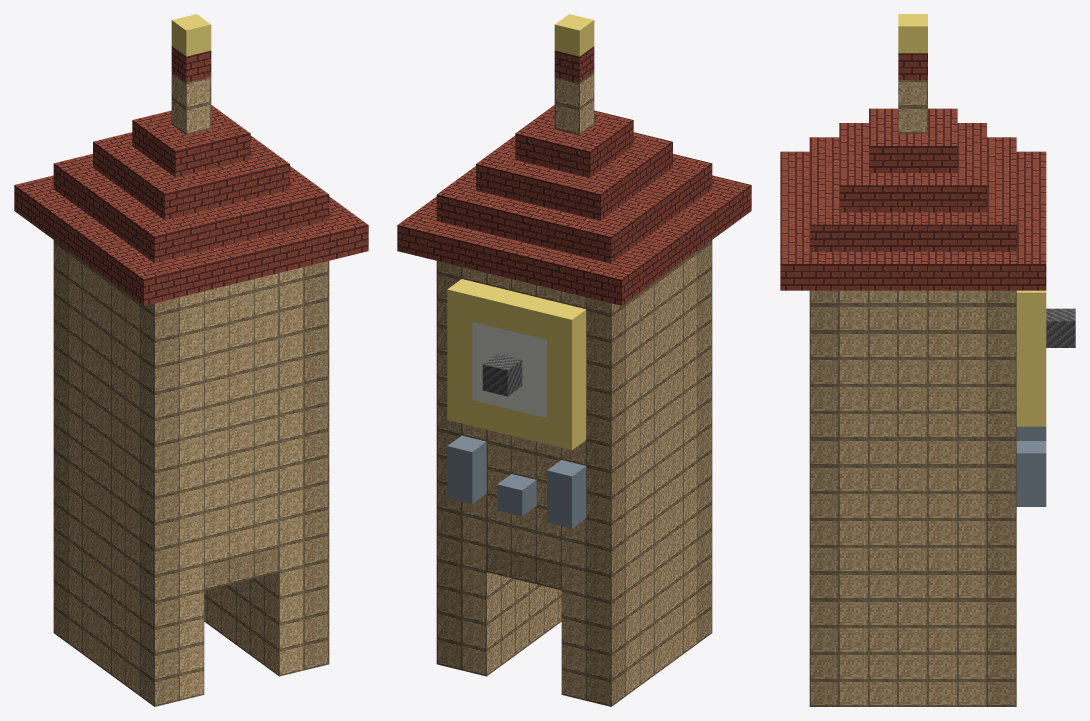
File: kaefigturm.glb
3 views of the same model, side by side, from view 1: azimuth 30°, elevation 25°; view 2: azimuth 150°, elevation 25°; view 3: azimuth 270°, elevation 25° (orthographic). The views are drawn at different scales.
Parts seen in each view (by area): view 1: kaefigturm; view 2: kaefigturm; view 3: kaefigturm.
Part boxes in pixels (left/top/right/bottom): kaefigturm: left=14, top=14, right=368, bottom=706; kaefigturm: left=397, top=14, right=751, bottom=706; kaefigturm: left=780, top=14, right=1075, bottom=706.
Size of the model in its own units: 9 by 24 by 10.
Materials: 1 (1 with a texture image).
